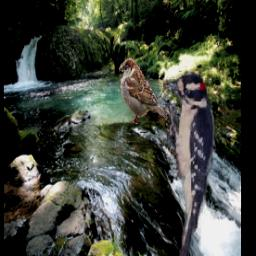Sparrow: (120, 59, 169, 125)
Woodpecker: (163, 68, 215, 256)
